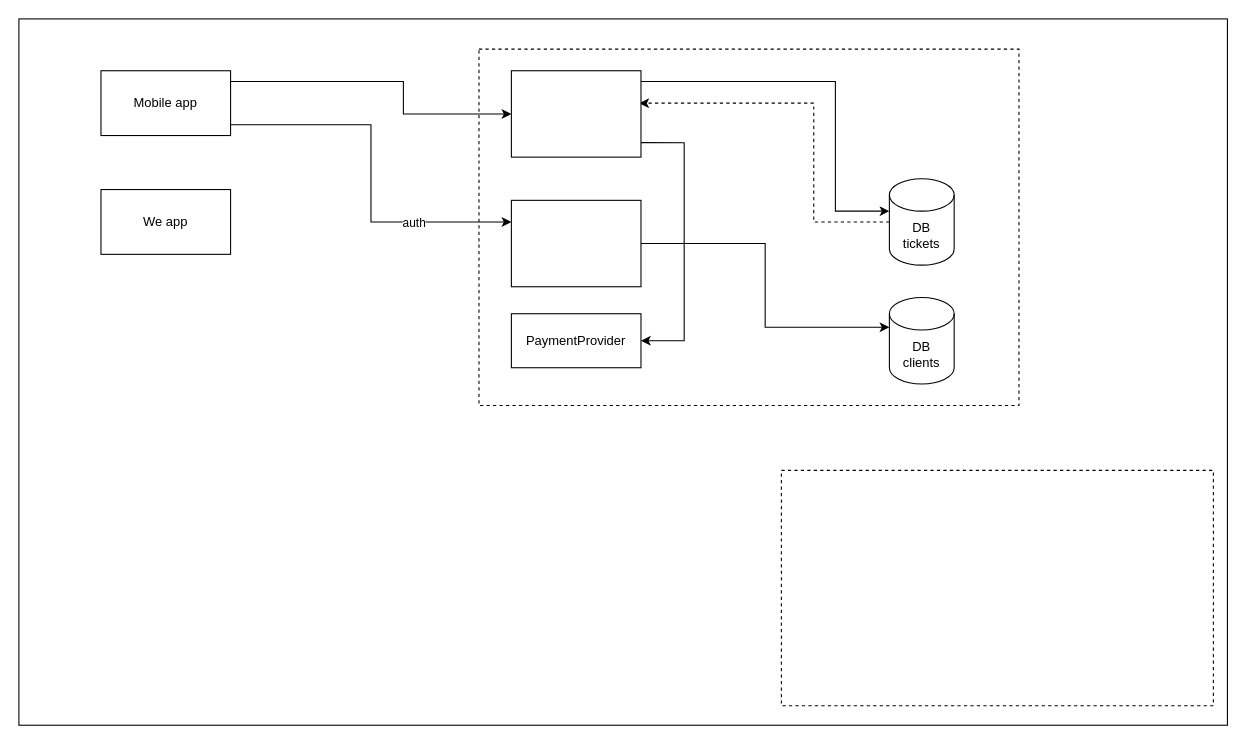
Some shapes in this 1246 by 744 pixel diagram are drawn without their labels. Here are the shapes that lost their labels. From the top down, the centre of each, then its label:
At (575,113): "TicketProvider".
At (575,243): "CustomerProvider".
At (996,587): "Bus staton".
